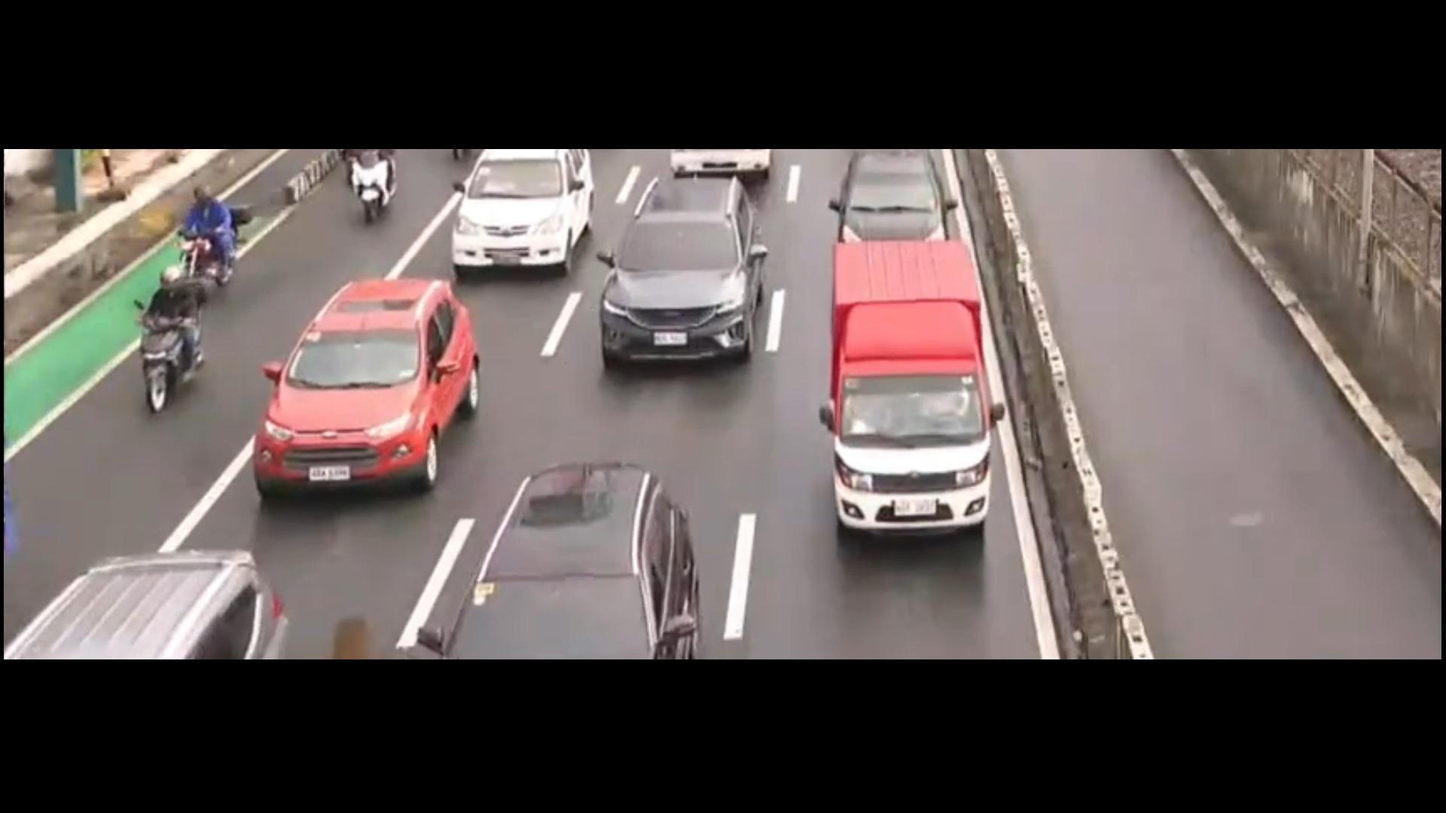Motorcycle: (119, 249, 230, 429), (179, 160, 264, 282), (336, 151, 403, 232)
SUV: (405, 446, 708, 661), (239, 269, 494, 497), (576, 172, 770, 389), (439, 138, 599, 294)
Truck: (805, 217, 1008, 563)
